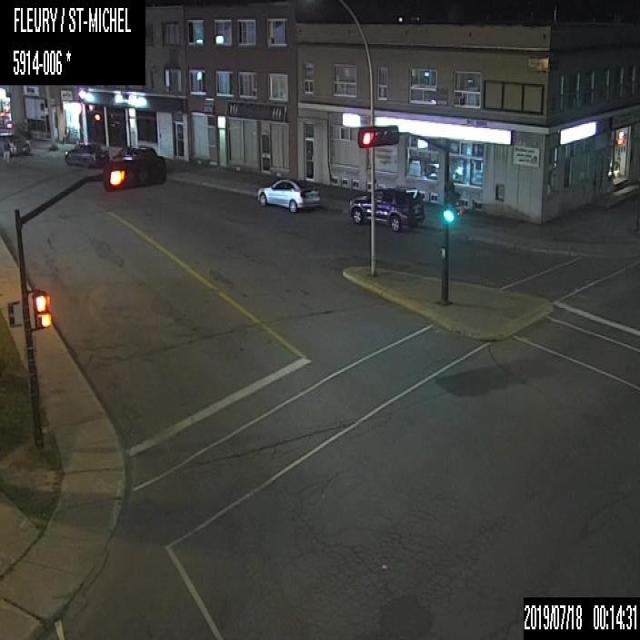pedestrian: (0, 135, 11, 165)
vehicle: (346, 184, 424, 234), (255, 176, 320, 213), (64, 140, 108, 168), (0, 129, 32, 156), (113, 144, 156, 160)
